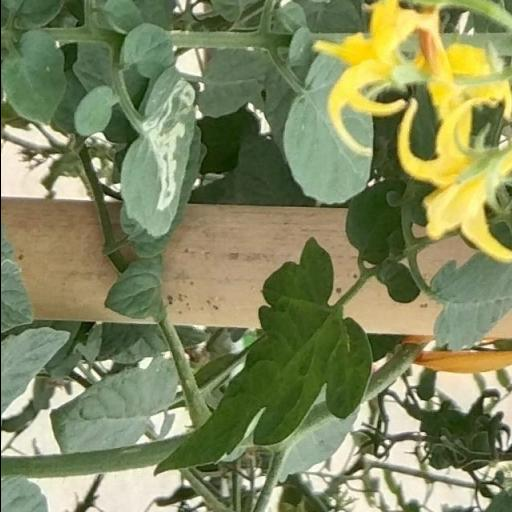disease_tomato: (115, 66, 196, 240)
